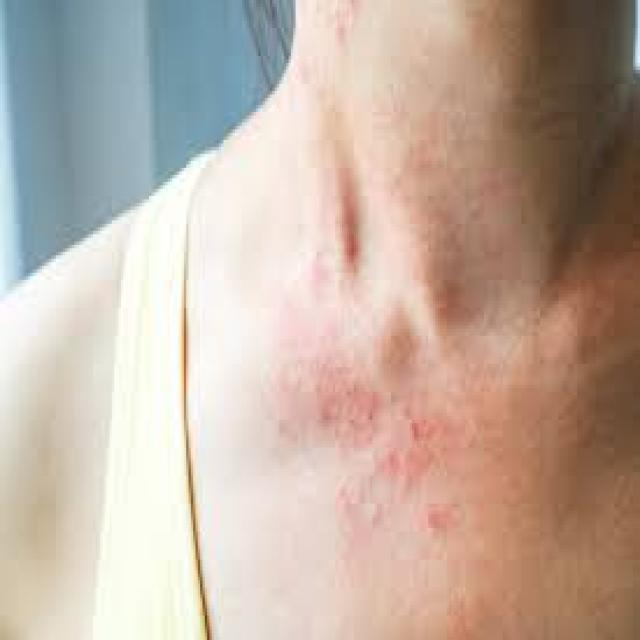Acanthosis Nigricans: (270, 154, 623, 628)
